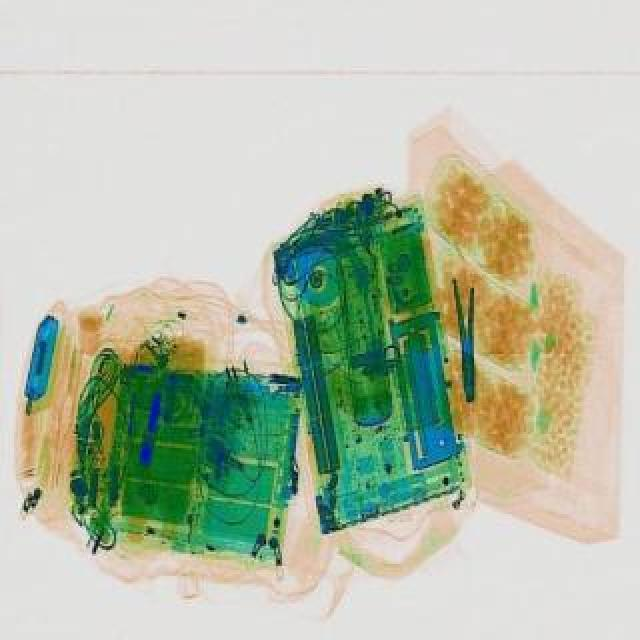wrench: (450, 272, 482, 400)
